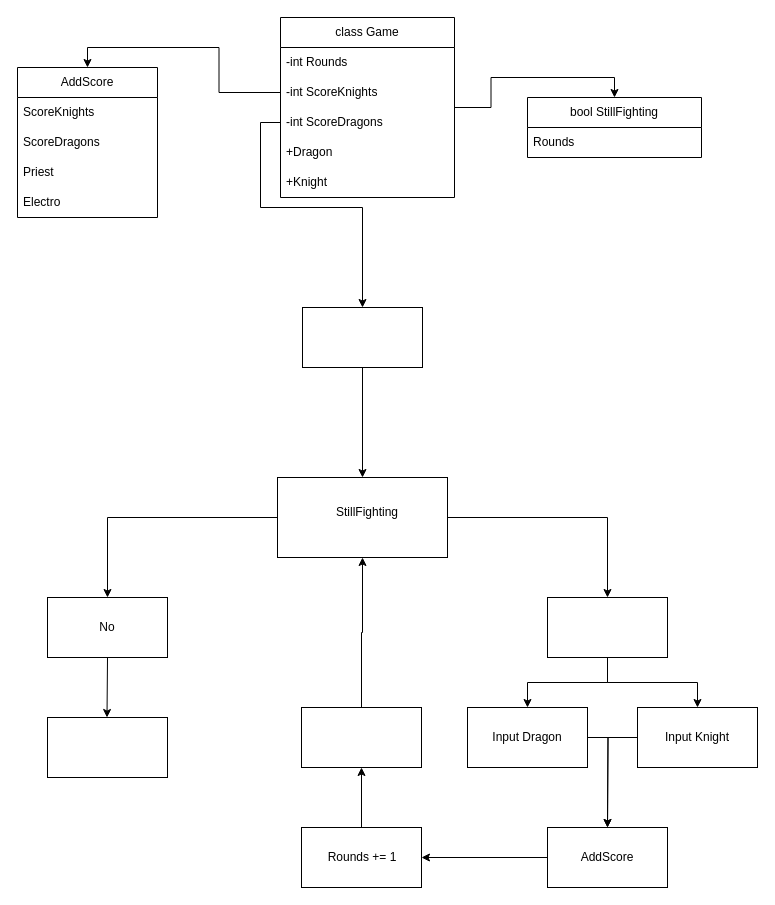
The diagram is 775 pixels wide and 905 high, and some of its shapes have lost their labels. Here are the shapes that lost their labels. From the top down, the centre of each, then its label:
At point (362, 337): "MakeAGame".
At point (607, 627): "Yes".
At point (107, 747): "End".
At point (361, 737): "Print Who Won".
